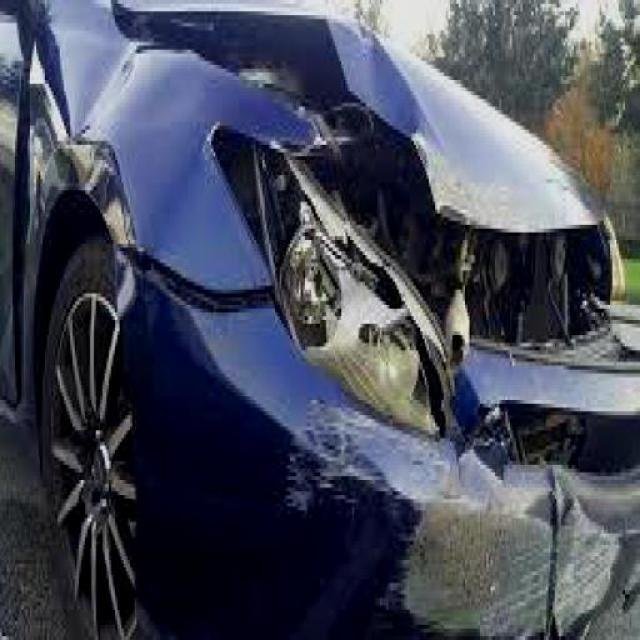car damage: (8, 3, 640, 639)
